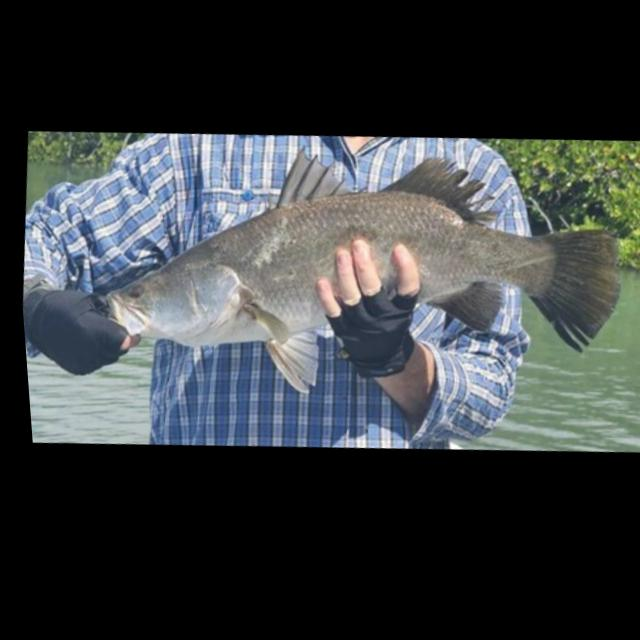Seabass: (77, 95, 639, 446)
